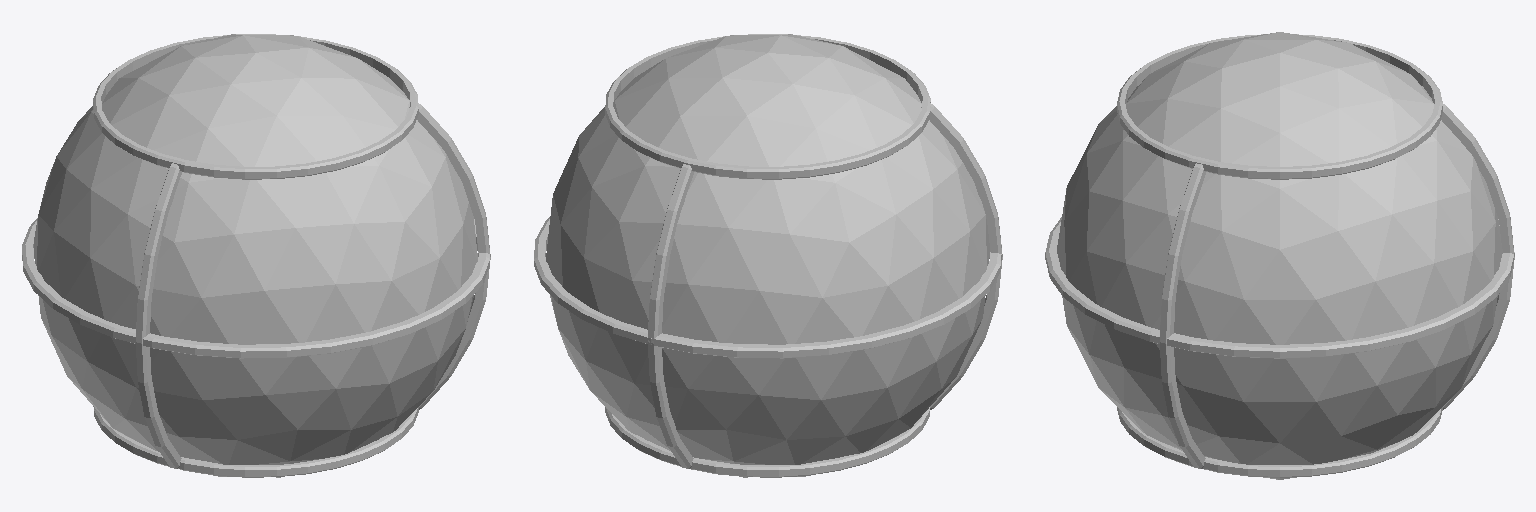
Rendered from monolith.obj.
3 views of the same model, side by side, from view 1: azimuth 30°, elevation 25°; view 2: azimuth 150°, elevation 25°; view 3: azimuth 270°, elevation 25° (orthographic).
Parts seen in each view (by area): view 1: plasma, armature; view 2: plasma, armature; view 3: plasma, armature.
Part boxes in pixels (bbox=[...]): plasma: bbox=[34, 34, 477, 477]; armature: bbox=[22, 34, 490, 477]; plasma: bbox=[546, 34, 989, 477]; armature: bbox=[534, 34, 1002, 477]; plasma: bbox=[1057, 32, 1502, 479]; armature: bbox=[1045, 34, 1514, 477].
Size of the model in its own units: 9.99 by 9.54 by 9.99.